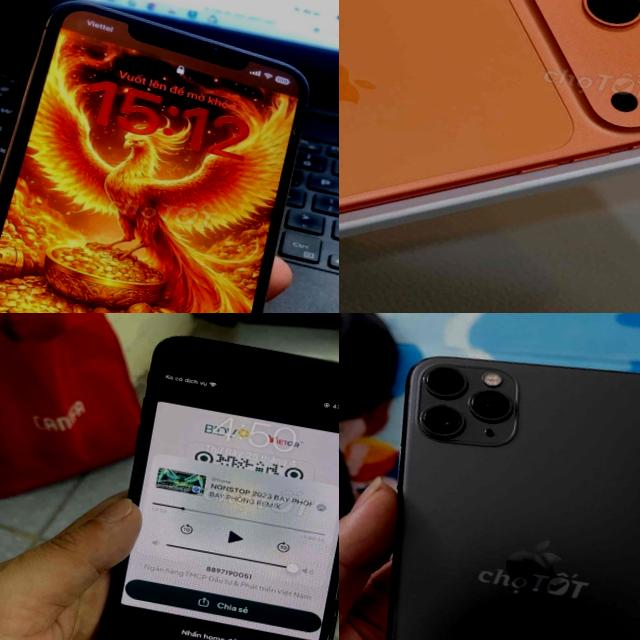gen_11: (0, 0, 337, 313), (386, 356, 640, 640)
gen_17: (339, 0, 640, 212), (339, 0, 640, 211), (339, 0, 544, 94)
gen_7_8: (71, 322, 339, 640)
scratch: (148, 329, 242, 356), (312, 564, 339, 640), (124, 408, 149, 466)
